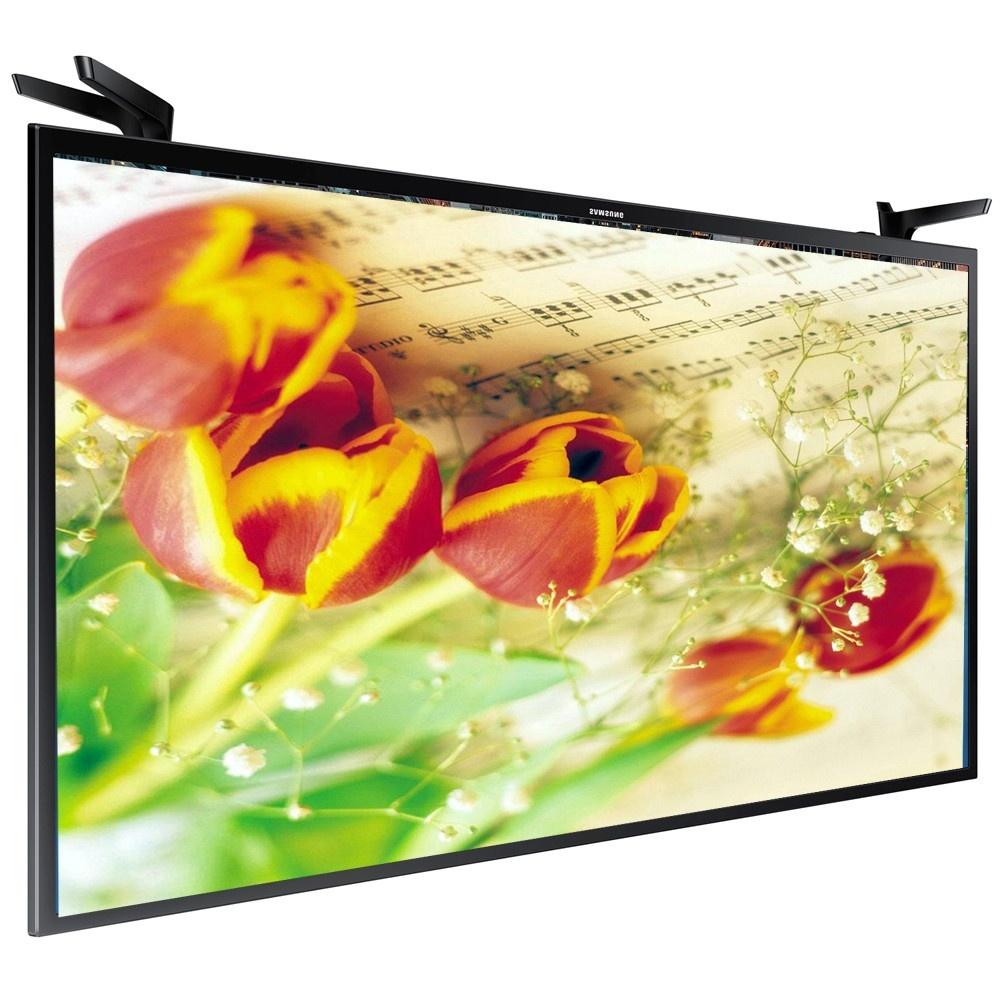SAMSUNG: (480, 126, 716, 262)
